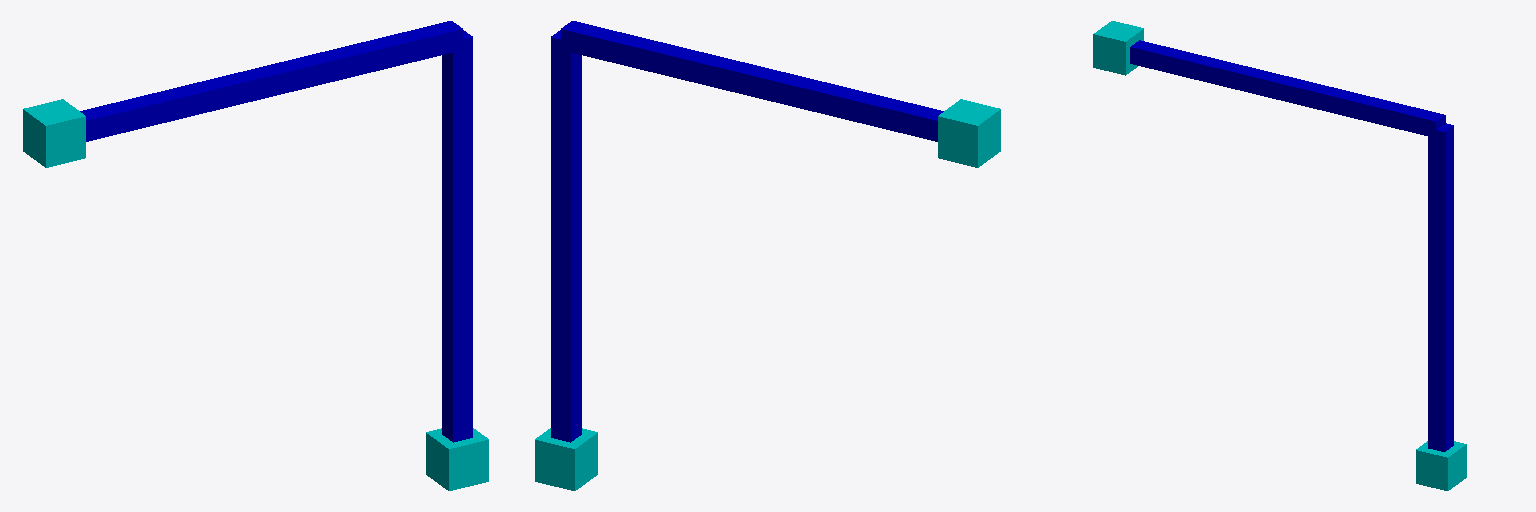
The robot description file, URDF, robot "furuta_pendulum":
<?xml version="1.0"?>
<!--
SPDX-FileCopyrightText: Copyright (c) 2020 NVIDIA CORPORATION & AFFILIATES. All rights reserved.
SPDX-License-Identifier: Apache-2.0

Licensed under the Apache License, Version 2.0 (the "License");
you may not use this file except in compliance with the License.
You may obtain a copy of the License at

http://www.apache.org/licenses/LICENSE-2.0

Unless required by applicable law or agreed to in writing, software
distributed under the License is distributed on an "AS IS" BASIS,
WITHOUT WARRANTIES OR CONDITIONS OF ANY KIND, either express or implied.
See the License for the specific language governing permissions and
limitations under the License.
-->

<robot name="furuta_pendulum">
    <link name="stand">
        <visual>
            <geometry>
                <box size="0.1 0.1 0.1"/>
            </geometry>
            <origin xyz="0 0 0"/>
            <material name="green">
                <color rgba="0 0.8 .8 1"/>
            </material>
        </visual>
        <collision>
            <geometry>
                <box size="0.1 0.1 0.1"/>
            </geometry>
            <origin xyz="0 0 0"/>
        </collision>
        <inertial>
            <mass value="1"/>
            <origin xyz="0 0 0"/>
            <inertia ixx="0.001666666667" ixy="0.0" ixz="0.0" iyy="0.001666666667" iyz="0.0" izz="0.001666666667"/>
        </inertial>
    </link>

    <link name="linkA">
        <visual>
            <geometry>
                <box size="1 0.05 0.05"/>
            </geometry>
            <origin xyz="0.5 0 0"/>
            <material name="blue">
                <color rgba="0 0 .8 1"/>
            </material>
        </visual>
        <collision>
            <geometry>
                <box size="1 0.05 0.05"/>
            </geometry>
            <origin xyz="0.5 0 0"/>
        </collision>
        <inertial>
            <mass value="1"/>
            <origin xyz="0.5 0 0"/>
            <inertia ixx="0.0004166666667" ixy="0.0" ixz="0.0" iyy="0.08354166667" iyz="0.0" izz="0.08354166667"/>
        </inertial>
    </link>

    <joint name="stand_to_linkA" type="continuous">
        <axis xyz="0 0 1"/>
        <origin xyz="0 0 0"/>
        <parent link="stand"/>
        <child link="linkA"/>
        <limit effort="100" lower="-100" upper="100" velocity="100"/>
    </joint>

    <link name="linkB">
        <visual>
            <geometry>
                <box size="0.05 0.05 1"/>
            </geometry>
            <origin xyz="0 0 -0.5"/>
            <material name="blue">
                <color rgba="0 0 .8 1"/>
            </material>
        </visual>
        <collision>
            <geometry>
                <box size="0.05 0.05 1"/>
            </geometry>
            <origin xyz="0 0 -0.5"/>
        </collision>
        <inertial>
            <mass value="1.0"/>
            <origin xyz="0 0 -0.5"/>
            <inertia ixx="0.08354166667" ixy="0.0" ixz="0.0" iyy="0.08354166667" iyz="0.0" izz="0.0004166666667"/>
        </inertial>
    </link>

    <joint name="linkA_to_linkB" type="continuous">
        <axis xyz="1 0 0"/>
        <origin xyz="1 0 0"/>
        <parent link="linkA"/>
        <child link="linkB"/>
        <limit effort="100" lower="-100" upper="100" velocity="100"/>
    </joint>

    <link name="tip">
        <visual>
            <geometry>
                <box size="0.1 0.1 0.1"/>
            </geometry>
            <origin xyz="0 0 0"/>
            <material name="green">
                <color rgba="0 0.8 .8 1"/>
            </material>
        </visual>
        <collision>
            <geometry>
                <box size="0.1 0.1 0.1"/>
            </geometry>
            <origin xyz="0 0 0"/>
        </collision>
        <inertial>
            <mass value="1"/>
            <origin xyz="0 0 0"/>
            <inertia ixx="0.001666666667" ixy="0.0" ixz="0.0" iyy="0.001666666667" iyz="0.0" izz="0.001666666667"/>
        </inertial>
    </link>

    <joint name="linkB_to_tip" type="fixed">
        <origin xyz="0 0 -1"/>
        <parent link="linkB"/>
        <child link="tip"/>
    </joint>

</robot>

--- Render facts (derived) ---
3 views of the same robot in one strip: view 1: azimuth 30°, elevation 25°; view 2: azimuth 150°, elevation 25°; view 3: azimuth 330°, elevation 25° (orthographic).
Model furuta_pendulum with 4 links and 3 joints (2 continuous, 1 fixed), rooted at stand, posed every joint at zero.
Links seen in each view (by area): view 1: linkB, linkA, stand, tip; view 2: linkB, linkA, stand, tip; view 3: linkB, linkA, tip, stand.
Link boxes in pixels (<box>): linkB: <box>442,30,472,442</box>; linkA: <box>80,21,462,141</box>; stand: <box>23,99,85,167</box>; tip: <box>426,428,488,490</box>; linkB: <box>551,30,581,442</box>; linkA: <box>561,21,943,141</box>; stand: <box>938,99,1000,167</box>; tip: <box>535,428,597,490</box>; linkB: <box>1428,123,1453,451</box>; linkA: <box>1130,40,1445,137</box>; tip: <box>1416,441,1466,490</box>; stand: <box>1093,21,1143,75</box>.
Bounding box of the posed robot: 1.1 × 0.1 × 1.1 m (x, y, z).
Geometry: primitives only (box / cylinder / sphere), no mesh files.
